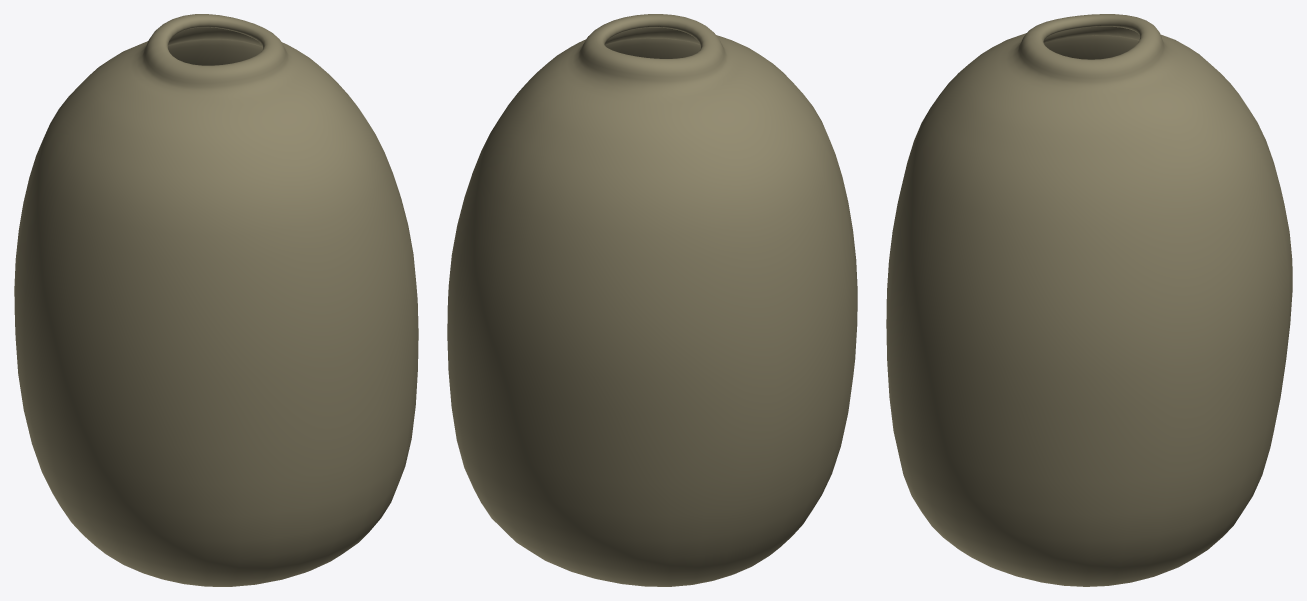
Rendered from yellow_vase.fbx.
3 renders of one model, left to right at view 1: azimuth 30°, elevation 25°; view 2: azimuth 150°, elevation 25°; view 3: azimuth 270°, elevation 25°, orthographic.
Parts seen in each view (by area): view 1: YellowVase; view 2: YellowVase; view 3: YellowVase.
Part boxes in pixels (left/top/right/bottom): YellowVase: left=14, top=14, right=418, bottom=586; YellowVase: left=447, top=14, right=857, bottom=586; YellowVase: left=886, top=14, right=1292, bottom=586.
Size of what is drawn, in the model's own units: 15.82 by 15.75 by 21.47.
